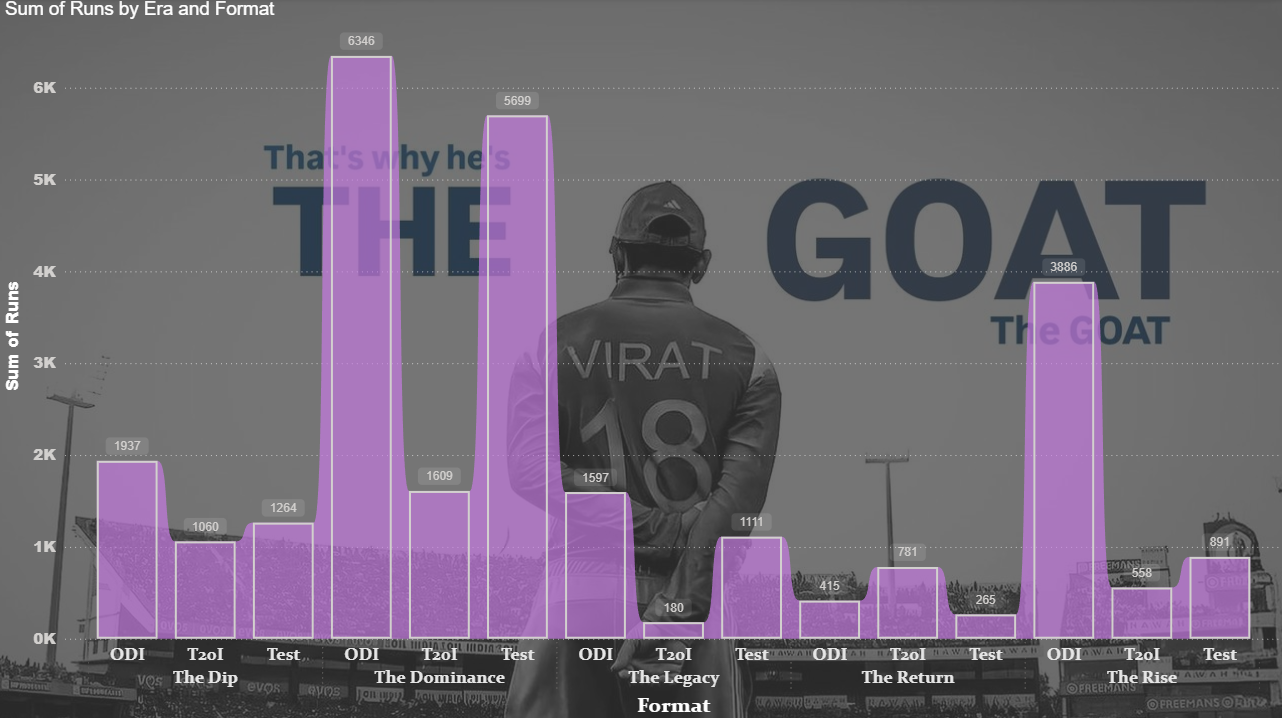

The dashboard page shown, as its layout file describes it:
{"tool":"powerbi","page":{"name":"Page 2","canvas":[1280,720],"ordinal":1},"visuals":[{"type":"columnChart","fields":{"Category":["virat_kohli_career_cleaned (2).Era","virat_kohli_career_cleaned (2).Format"],"Y":["Sum(virat_kohli_career_cleaned (2).Runs)"]},"box":[0,0,1279.4,720.6],"z":0}]}

Visuals, with their boxes in screenshot pixels (x1, y1, x2, y2), scaled from the page's 1280x720 canvas onto the 1282x718 screenshot:
columnChart - virat_kohli_career_cleaned (2).Era x virat_kohli_career_cleaned (2).Format: (x1=0, y1=0, x2=1281, y2=717)
